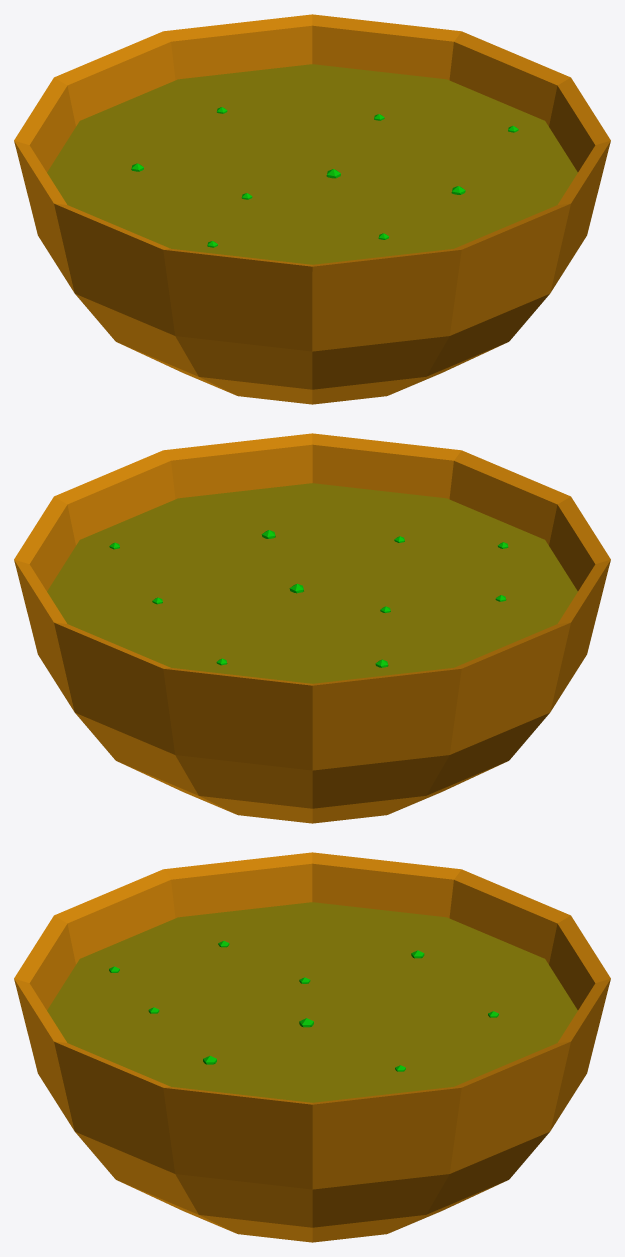
File: Soup_01.fbx
3 views of the same model, one above another, from view 1: azimuth 30°, elevation 25°; view 2: azimuth 150°, elevation 25°; view 3: azimuth 270°, elevation 25° (orthographic).
Visible parts, largest first — view 1: Soup_01; view 2: Soup_01; view 3: Soup_01.
Boxes of the visible parts, x1,y1,x2,y2 form: Soup_01: (14, 14, 610, 404); Soup_01: (14, 433, 610, 823); Soup_01: (14, 852, 610, 1242).
Size of the model in its own units: 15.27 by 5.67 by 15.27.
